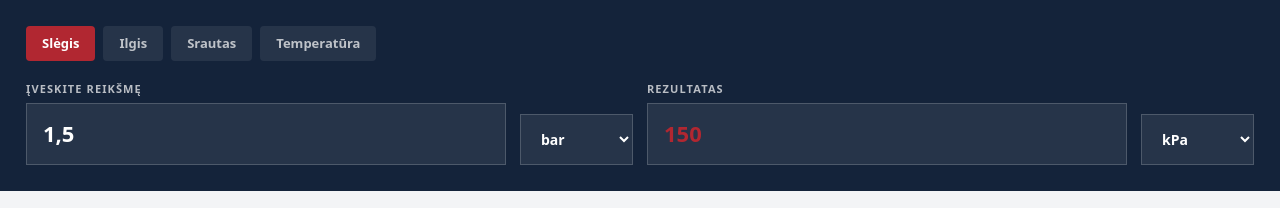
Test: UnitConverter › recalculates when the input value changes
Replace the text in the field showing "1,5" with "2" at point(266, 134), box [26,103,506,165]
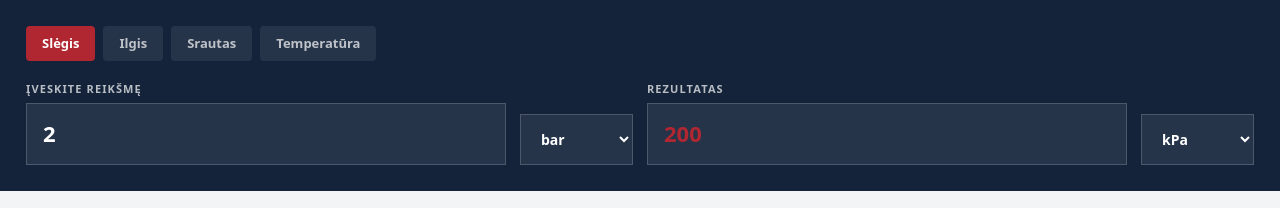
Check: the text "200" is shown, box [647,103,1127,165]
